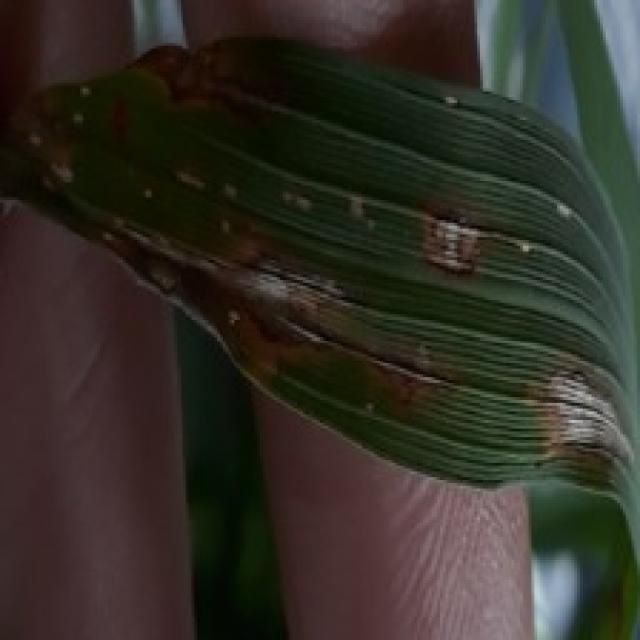Rice___Rice_Blast: (0, 38, 637, 576)
